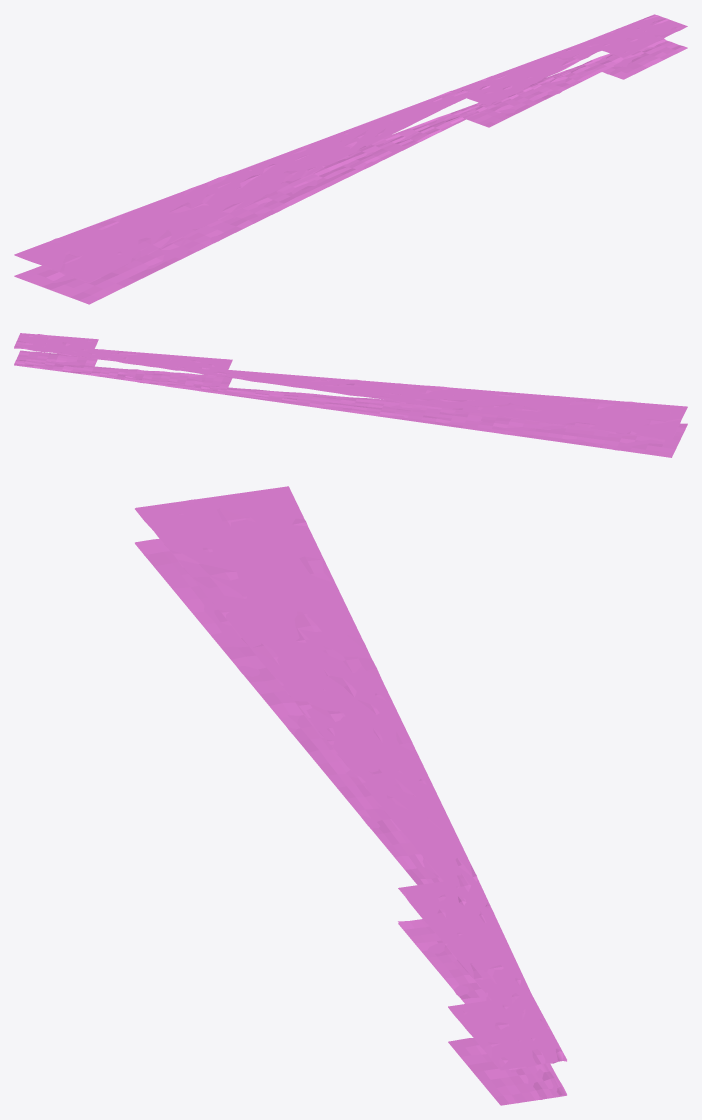
File: Unique 4 .fbx
3 views of the same model, one above another, from view 1: azimuth 30°, elevation 25°; view 2: azimuth 150°, elevation 25°; view 3: azimuth 270°, elevation 25° (orthographic). The views are drawn at different scales.
Visible parts, largest first — view 1: Unique_004, Unique_004.001; view 2: Unique_004, Unique_004.001; view 3: Unique_004, Unique_004.001.
Part boxes in pixels (box(x1,y1,x2,y2)): Unique_004: box(14, 14, 687, 304); Unique_004.001: box(14, 15, 687, 303); Unique_004: box(14, 333, 687, 457); Unique_004.001: box(14, 334, 687, 457); Unique_004: box(135, 486, 566, 1105); Unique_004.001: box(135, 499, 566, 1104).
Size of the model in its own units: 3324 by 99.9 by 1041.
